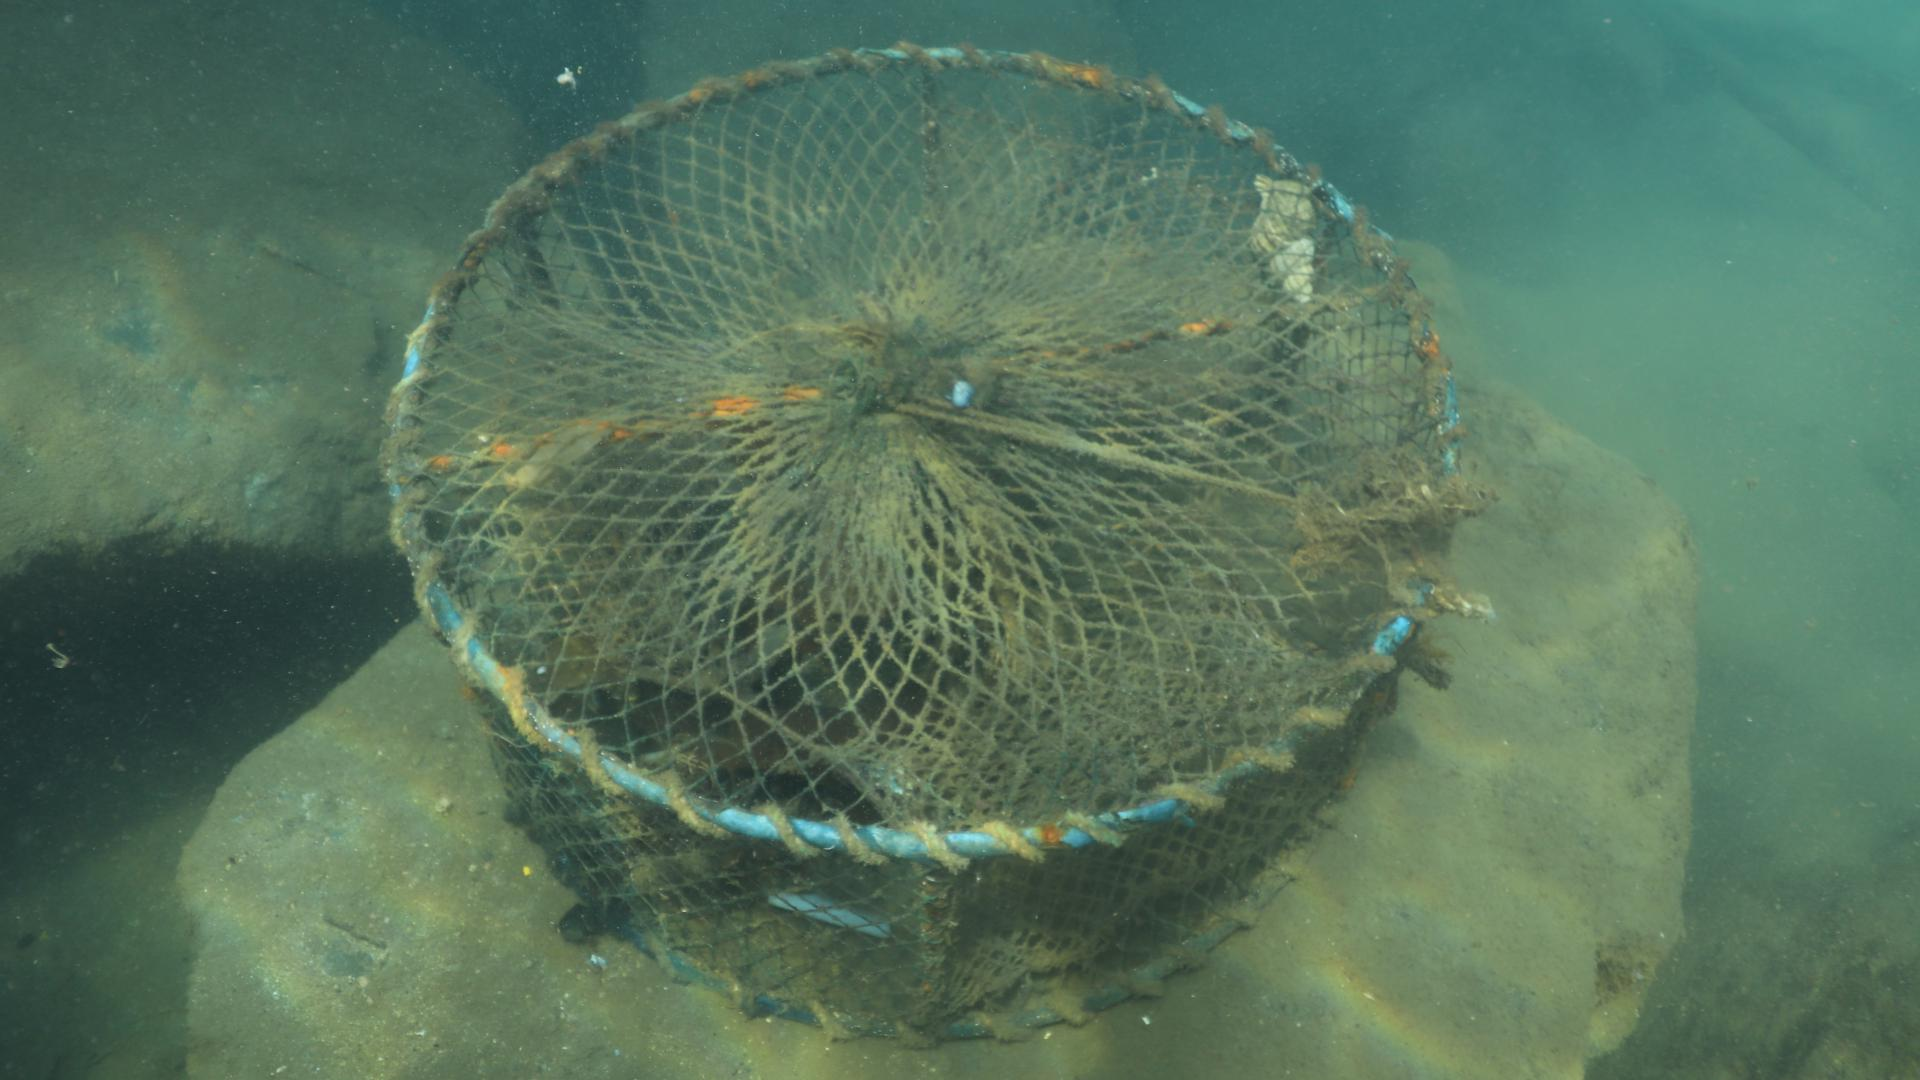circular fish trap: (375, 37, 1464, 1048)
